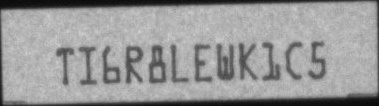1: (262, 41, 281, 81)
5: (307, 41, 326, 80)
6: (102, 45, 120, 83)
8: (148, 42, 165, 84)
C: (285, 41, 302, 79)
E: (191, 41, 212, 83)
I: (78, 45, 97, 86)
K: (240, 41, 258, 82)
L: (170, 42, 189, 84)
R: (125, 45, 143, 84)
T: (55, 48, 74, 84)
W: (215, 42, 235, 81)
